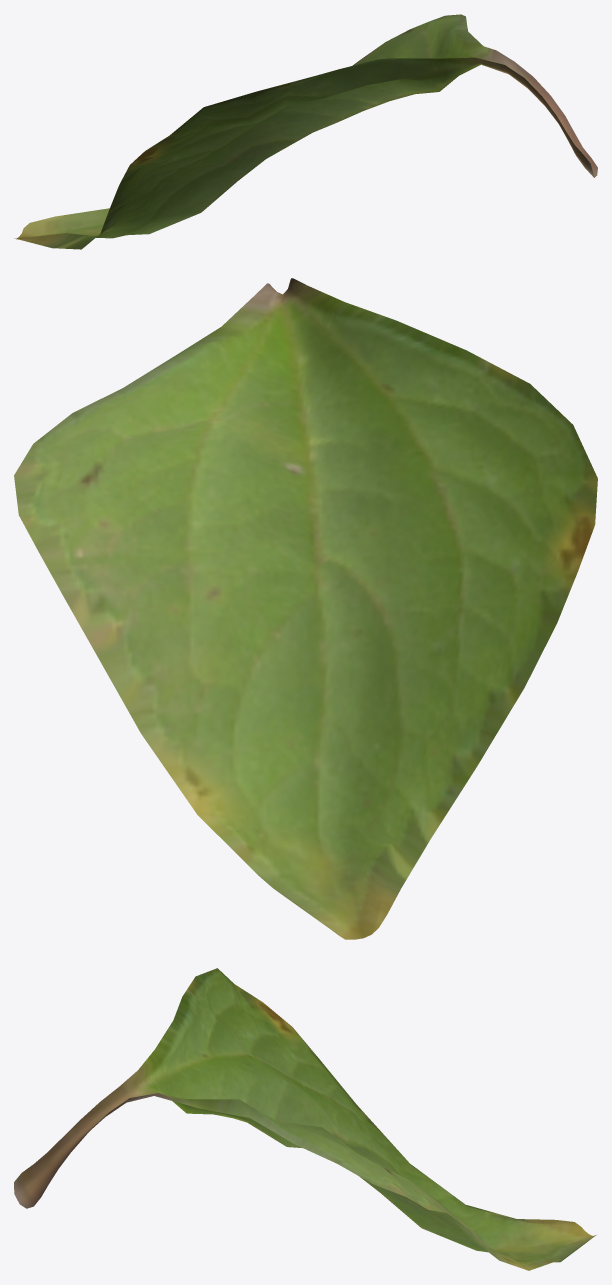
File: shrub_01.glb
3 renders of one model, top to bottom at view 1: azimuth 30°, elevation 25°; view 2: azimuth 150°, elevation 25°; view 3: azimuth 270°, elevation 25°, orthographic. The views are drawn at different scales.
Parts seen in each view (by area): view 1: shrub_01_a.035; view 2: shrub_01_a.035; view 3: shrub_01_a.035.
Boxes of the visible parts, <box> form: shrub_01_a.035: <box>14,14,597,249</box>; shrub_01_a.035: <box>14,278,597,939</box>; shrub_01_a.035: <box>14,968,596,1270</box>.
Bounding box in the file's own units: 1.24 × 0.9 × 1.59.
Materials: 1 (1 with a texture image).
